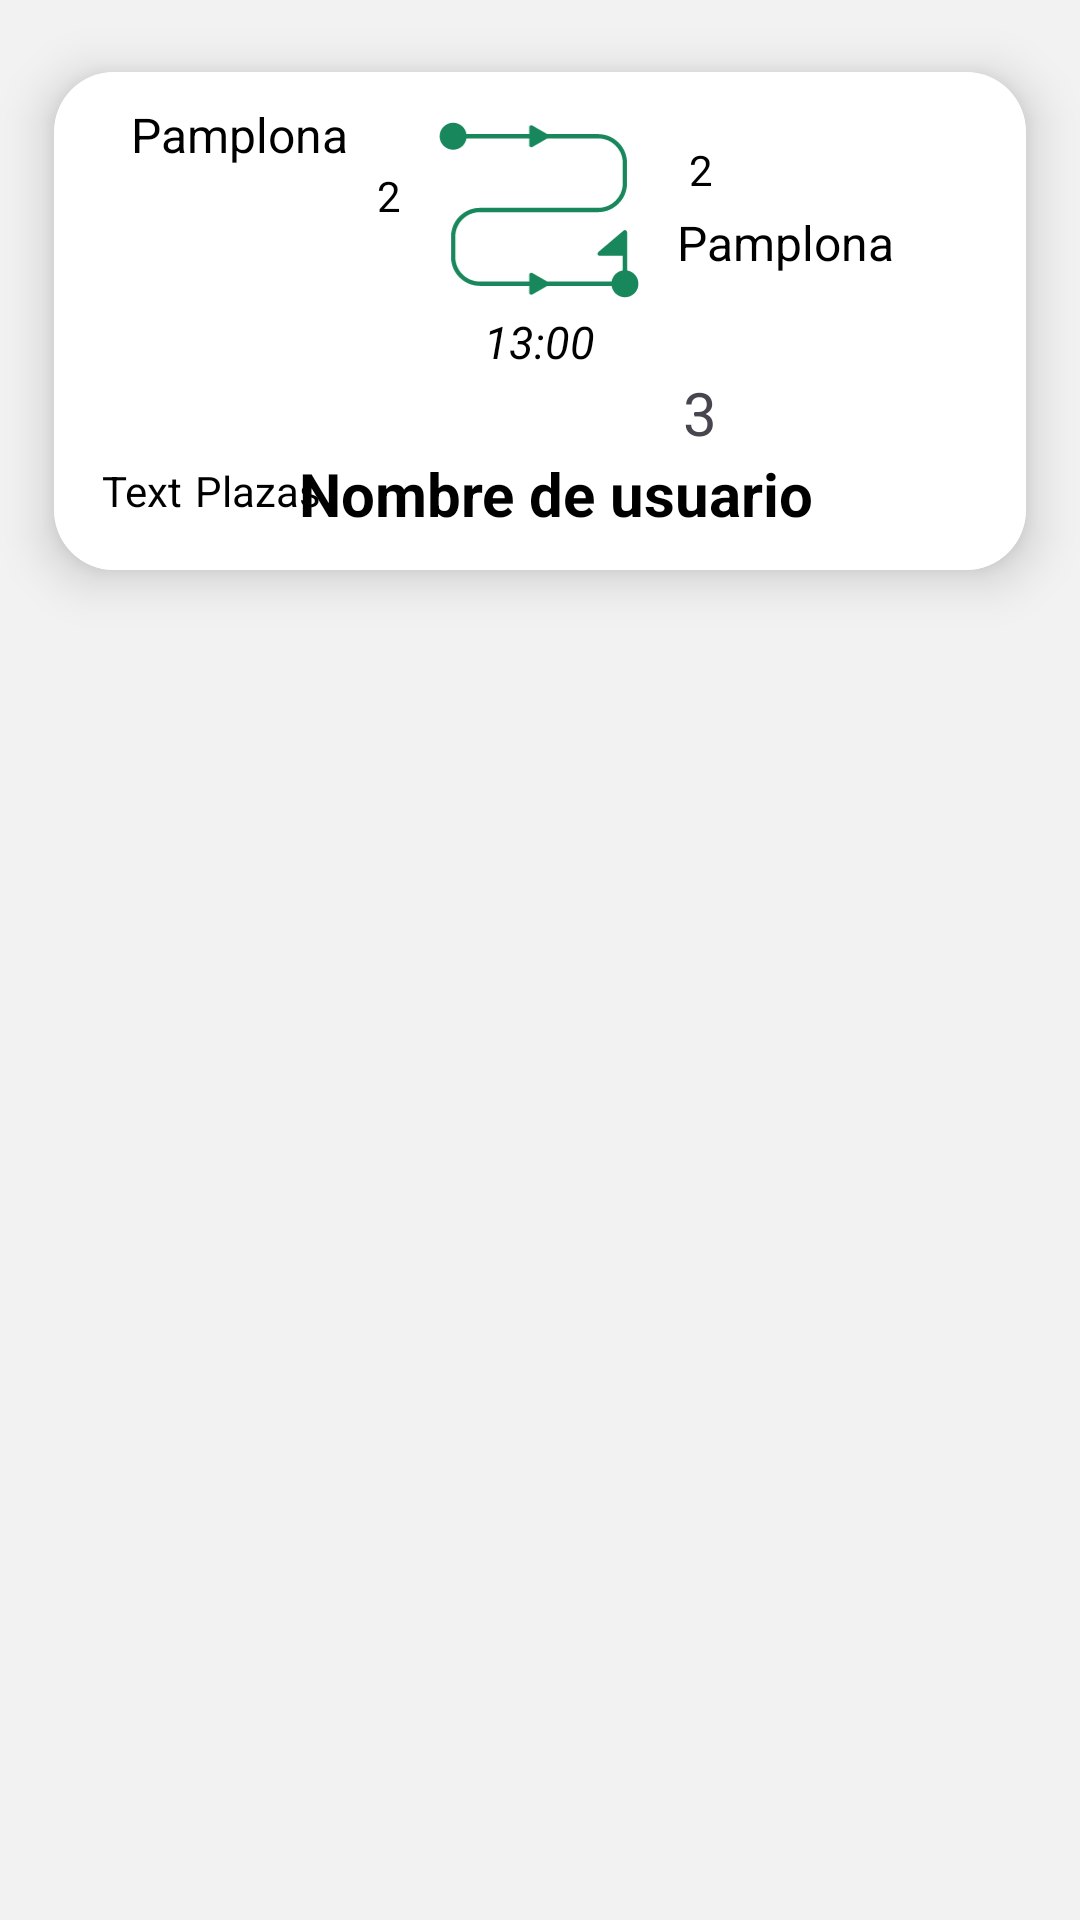

Screen size 1080 × 1920. Icon name, then its box in pixels as region(x1, y1, x2, y2):
roadmap: region(439, 122, 639, 360)
